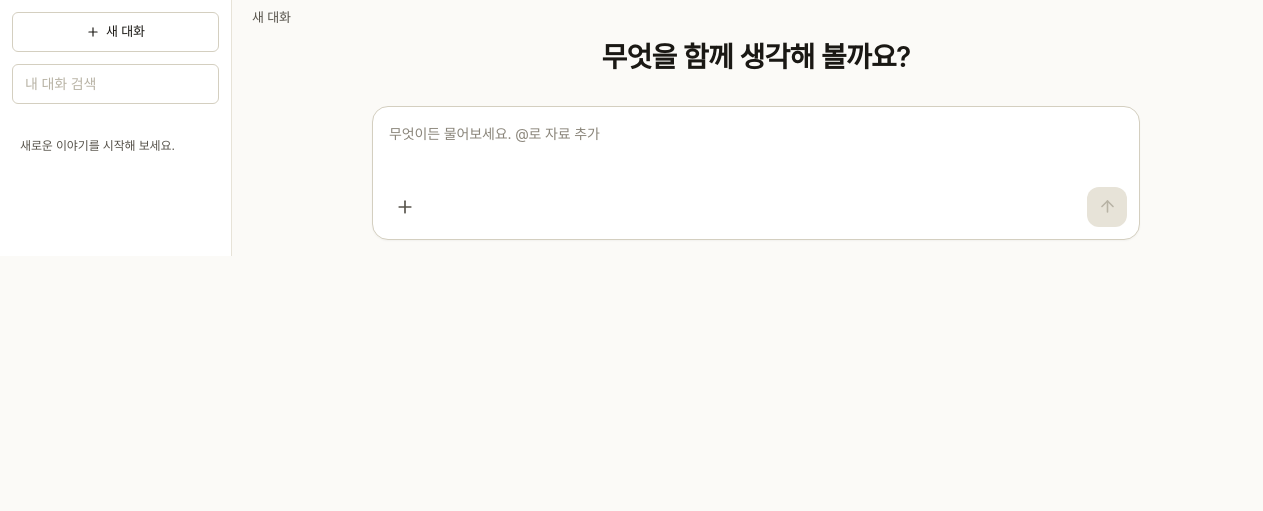
Test: AI 연구 채팅 › 첫 대화를 한 번 저장하고 부분 답변을 같은 턴에 누적하며 중지한다
Type "@첫 번째" into the text box named "연구 질문" at (756, 150), box [385, 118, 1127, 182]
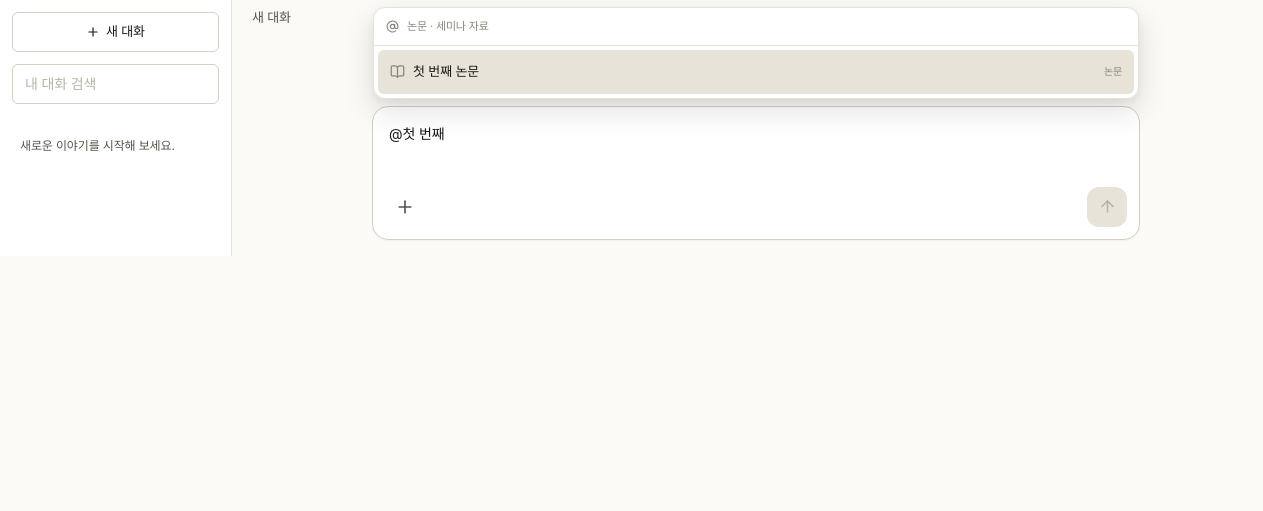
Press Enter in the text box named "연구 질문", box [385, 118, 1127, 182]
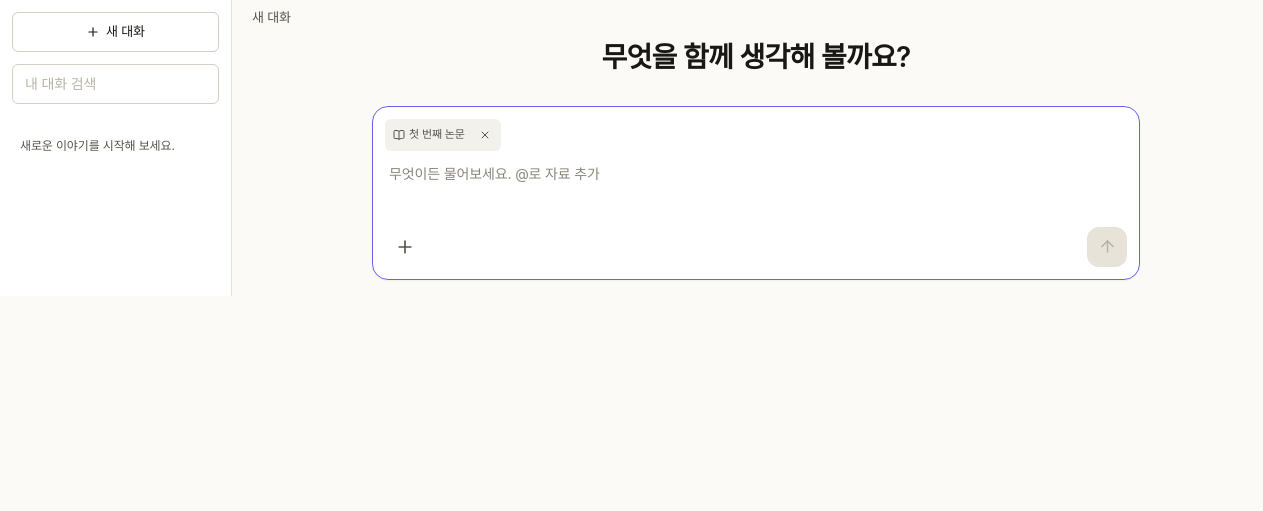
Type "핵심 기여가 뭔가요?" into the text box named "연구 질문" at (756, 190), box [385, 158, 1127, 222]
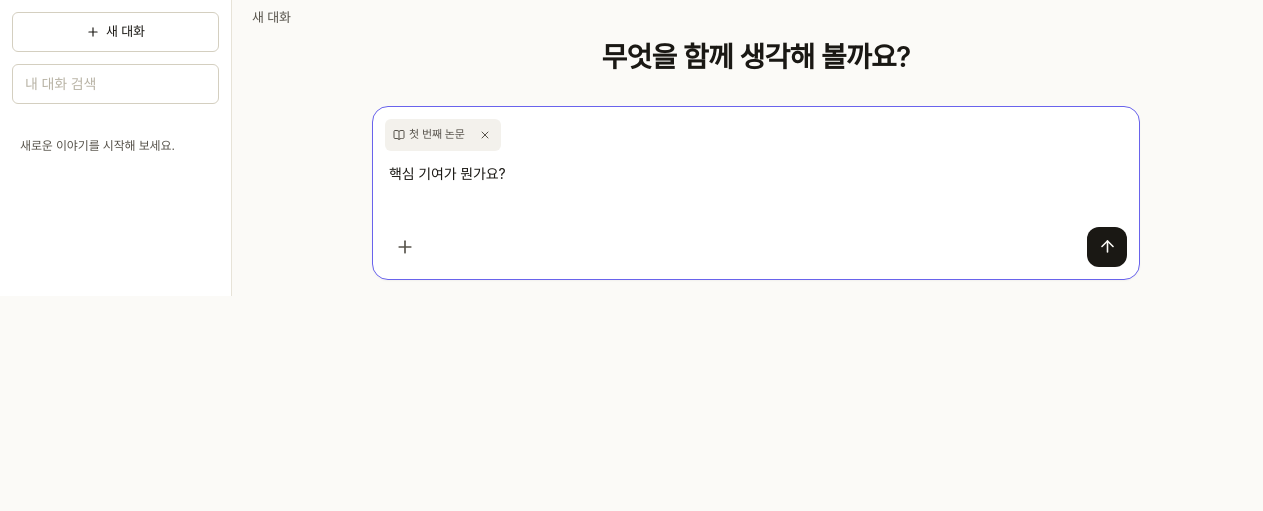
Now the button named "보내기" is enabled
Click the button named "보내기" at (1107, 246), box [1087, 226, 1127, 266]
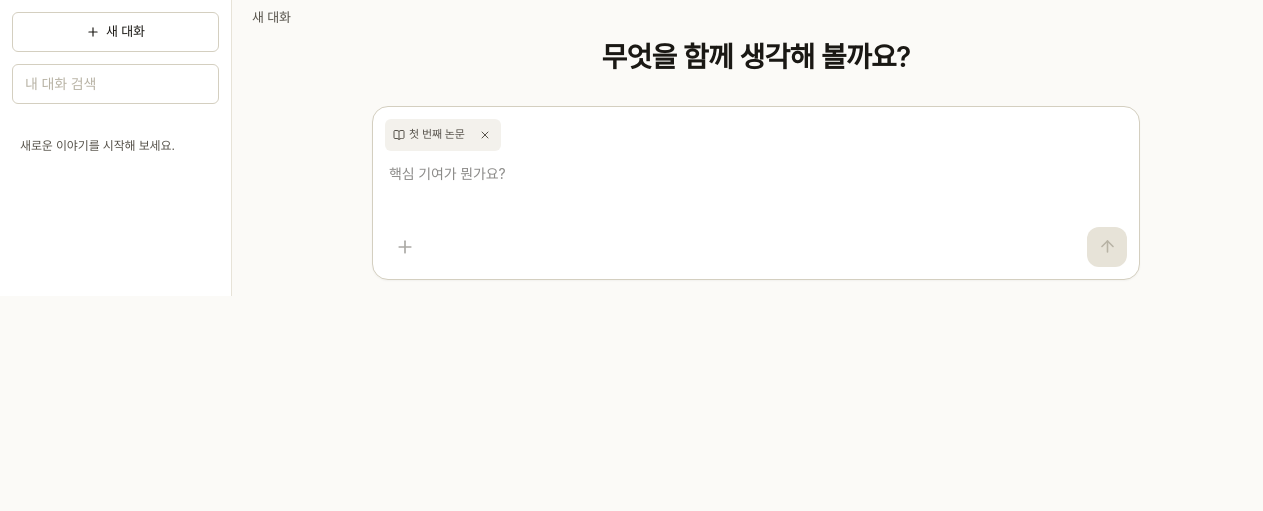
Click the button named "보내기" at (1107, 246), box [1087, 226, 1127, 266]
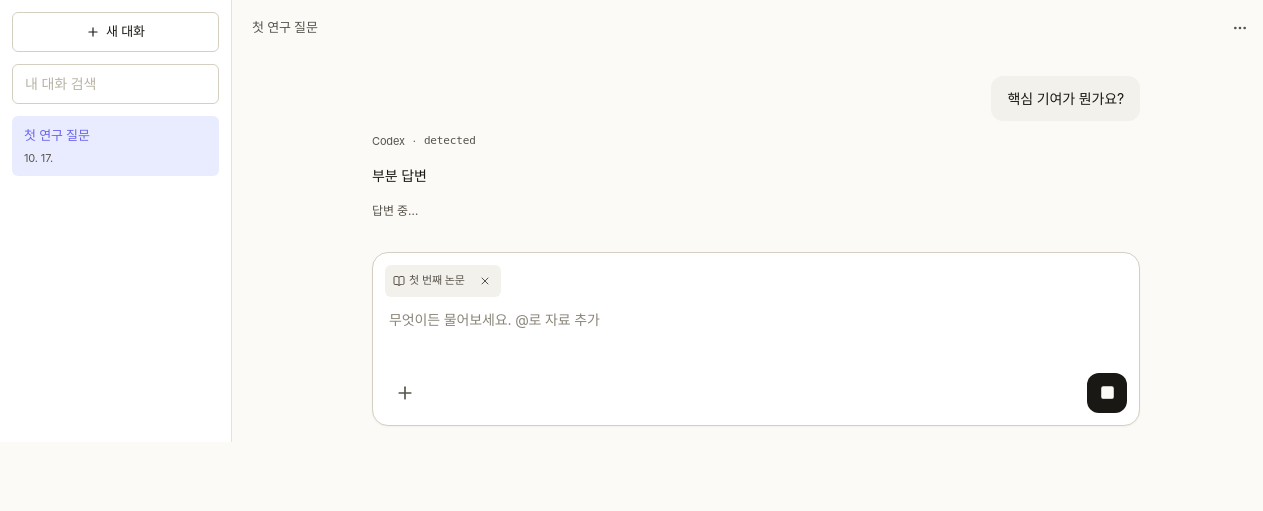
Now the text box named "연구 질문" is empty, box [385, 304, 1127, 368]
Now the text "부분 답변" is shown, box [372, 166, 427, 184]
Now the text "핵심 기여가 뭔가요?" is shown once, box [1008, 88, 1124, 109]
Click the button named "답변 중지" at (1107, 392), box [1087, 372, 1127, 412]
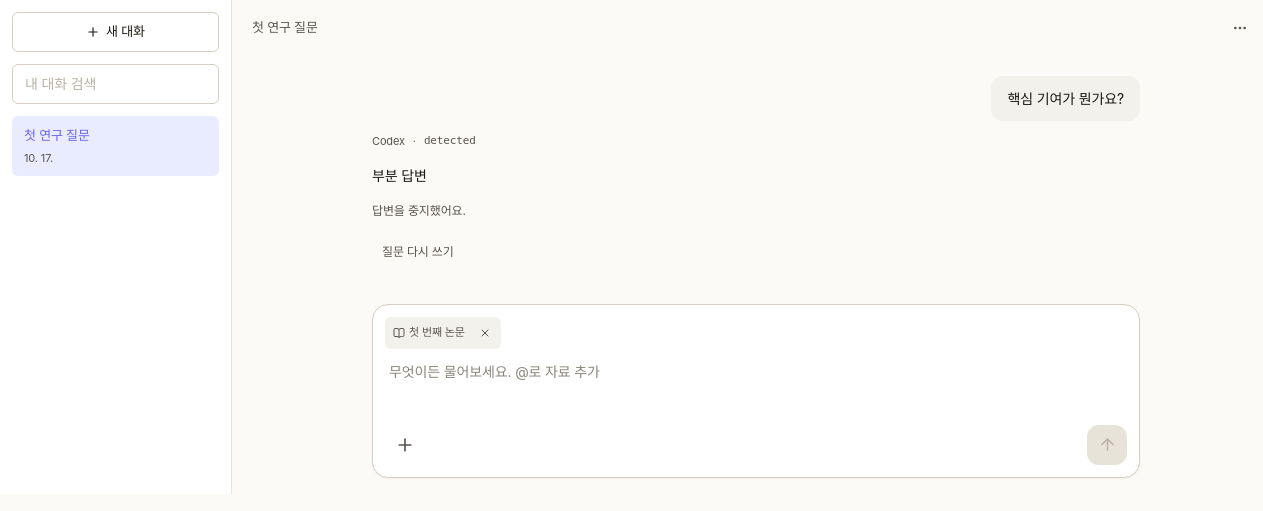
Now the text "부분 답변" is shown, box [372, 166, 427, 184]
Now the text "답변을 중지했어요." is shown, box [372, 202, 466, 218]
